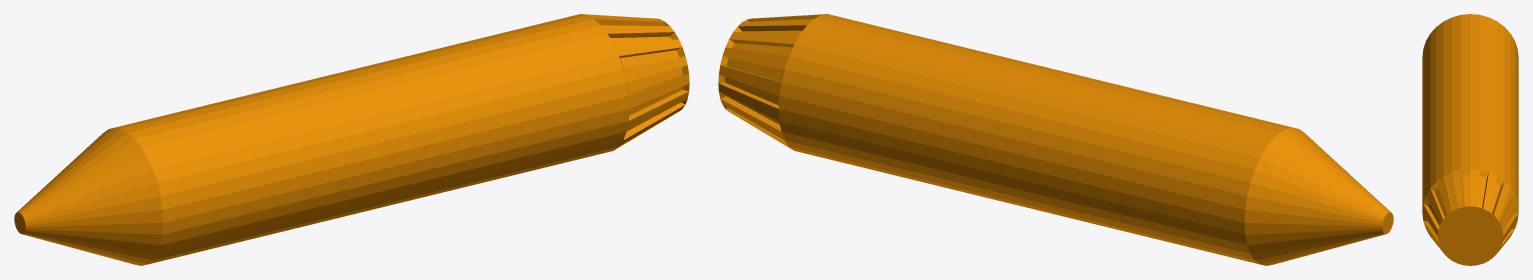
File: mp40Bullet.fbx
3 views of the same model, side by side, from view 1: azimuth 30°, elevation 25°; view 2: azimuth 150°, elevation 25°; view 3: azimuth 270°, elevation 25° (orthographic). The views are drawn at different scales.
Parts seen in each view (by area): view 1: Cylinder; view 2: Cylinder; view 3: Cylinder.
Part boxes in pixels (x1,y1,x2,y2): Cylinder: [14, 14, 689, 265]; Cylinder: [718, 14, 1393, 265]; Cylinder: [1422, 14, 1518, 265].
Bounding box in the file's own units: 16.05 × 3.05 × 3.05.
